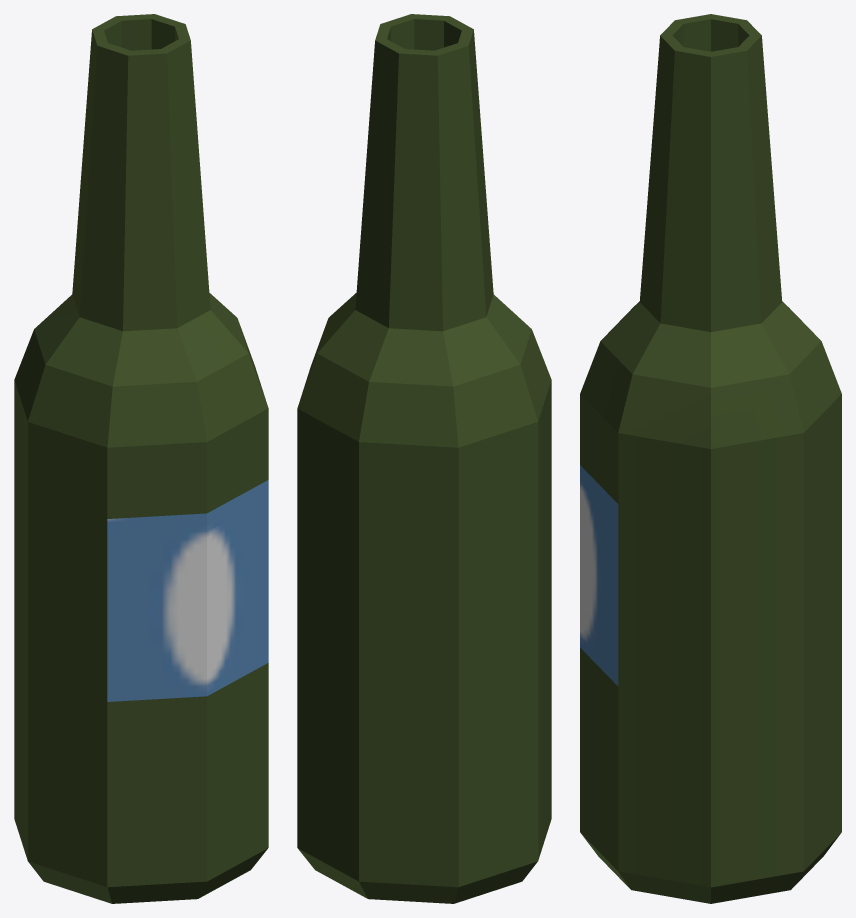
3 renders of one model, left to right at view 1: azimuth 30°, elevation 25°; view 2: azimuth 150°, elevation 25°; view 3: azimuth 270°, elevation 25°, orthographic.
Visible parts, largest first — view 1: SM_Prop_Bar_Bottle_02_0; view 2: SM_Prop_Bar_Bottle_02_0; view 3: SM_Prop_Bar_Bottle_02_0.
Boxes of the visible parts, x1=… form: SM_Prop_Bar_Bottle_02_0: x1=14, y1=14, x2=268, y2=903; SM_Prop_Bar_Bottle_02_0: x1=297, y1=14, x2=551, y2=903; SM_Prop_Bar_Bottle_02_0: x1=580, y1=14, x2=841, y2=903.
Bounding box in the file's own units: 0.0938 × 0.3246 × 0.0939.
1 material, 1 textured.
